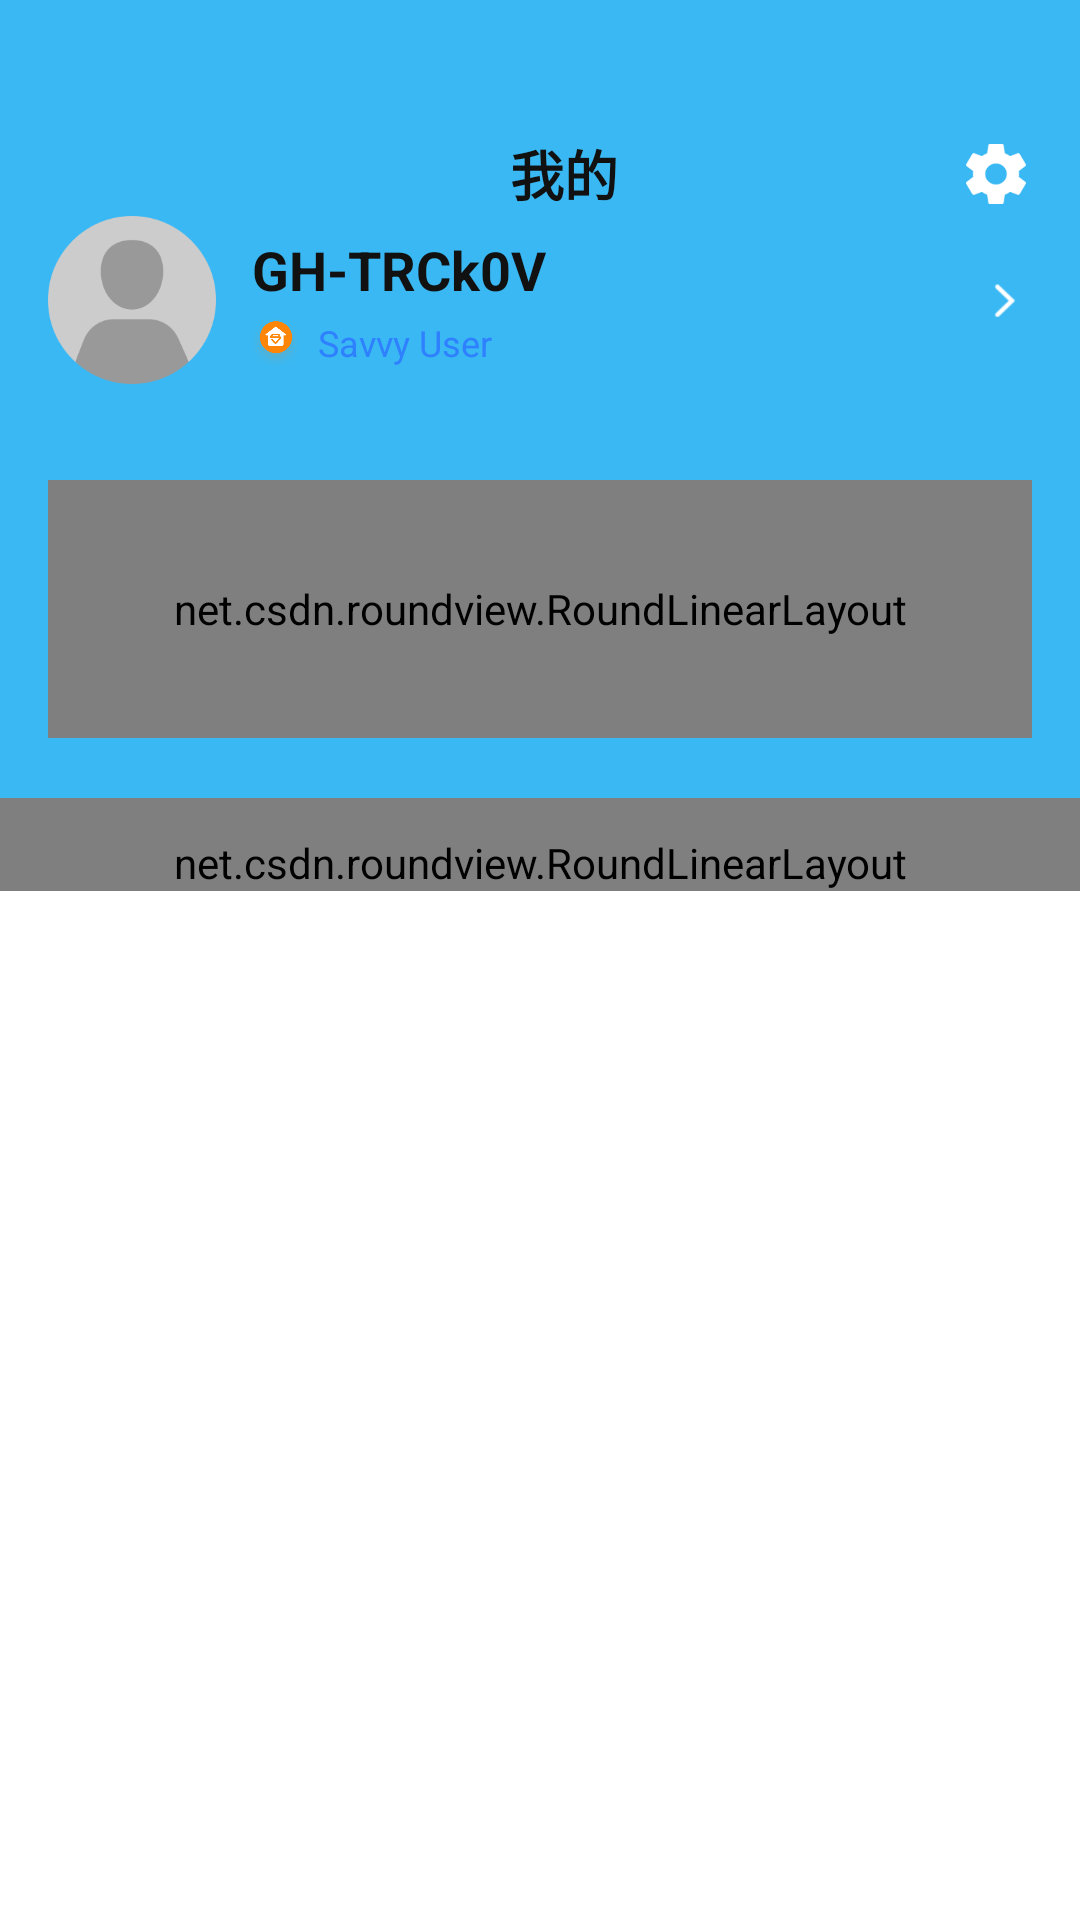

Screen size 1080px x 1920px. Icon name, then its box in pixels as box=[x1, y1, x2, y2]:
profile user setting: box=[966, 144, 1026, 204]
